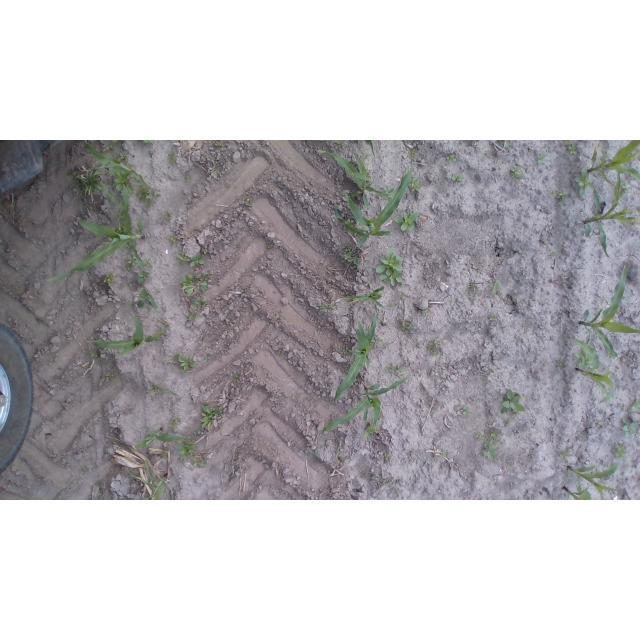Maize: (320, 149, 417, 249), (46, 203, 148, 286), (319, 375, 413, 437), (580, 267, 640, 364), (579, 187, 640, 262), (328, 314, 379, 402), (79, 142, 153, 195), (83, 309, 165, 352), (589, 141, 640, 200), (568, 459, 625, 499), (576, 362, 620, 407), (134, 458, 166, 500), (130, 428, 181, 452)
Weeds: (377, 250, 406, 291), (473, 429, 503, 464), (498, 387, 526, 417), (179, 442, 209, 469), (345, 289, 386, 307), (182, 274, 211, 297), (200, 404, 224, 431), (395, 211, 422, 233), (574, 167, 590, 194), (426, 338, 443, 363), (621, 419, 640, 441), (343, 244, 361, 267), (139, 188, 160, 207), (177, 253, 203, 268), (176, 355, 198, 372), (534, 150, 548, 171), (564, 142, 581, 158), (457, 402, 473, 419), (447, 173, 468, 185), (511, 165, 525, 183), (488, 280, 503, 296), (552, 186, 567, 202), (190, 298, 210, 310), (171, 414, 186, 430), (103, 369, 119, 384), (137, 270, 151, 287), (166, 150, 180, 167), (611, 442, 625, 459), (384, 183, 397, 196), (423, 308, 437, 320), (445, 152, 459, 164), (103, 272, 117, 284), (115, 153, 130, 164), (231, 373, 243, 386), (399, 320, 413, 331), (86, 349, 100, 360), (412, 175, 420, 194), (275, 350, 291, 359), (488, 313, 501, 324), (631, 399, 640, 414), (186, 172, 197, 184), (168, 235, 180, 246), (410, 147, 421, 158), (101, 144, 112, 154), (114, 224, 125, 234), (233, 240, 242, 252), (345, 216, 356, 225), (244, 284, 253, 295), (275, 310, 286, 319), (128, 256, 136, 268), (245, 196, 255, 204), (163, 211, 169, 223), (213, 143, 227, 148), (268, 242, 276, 250)
